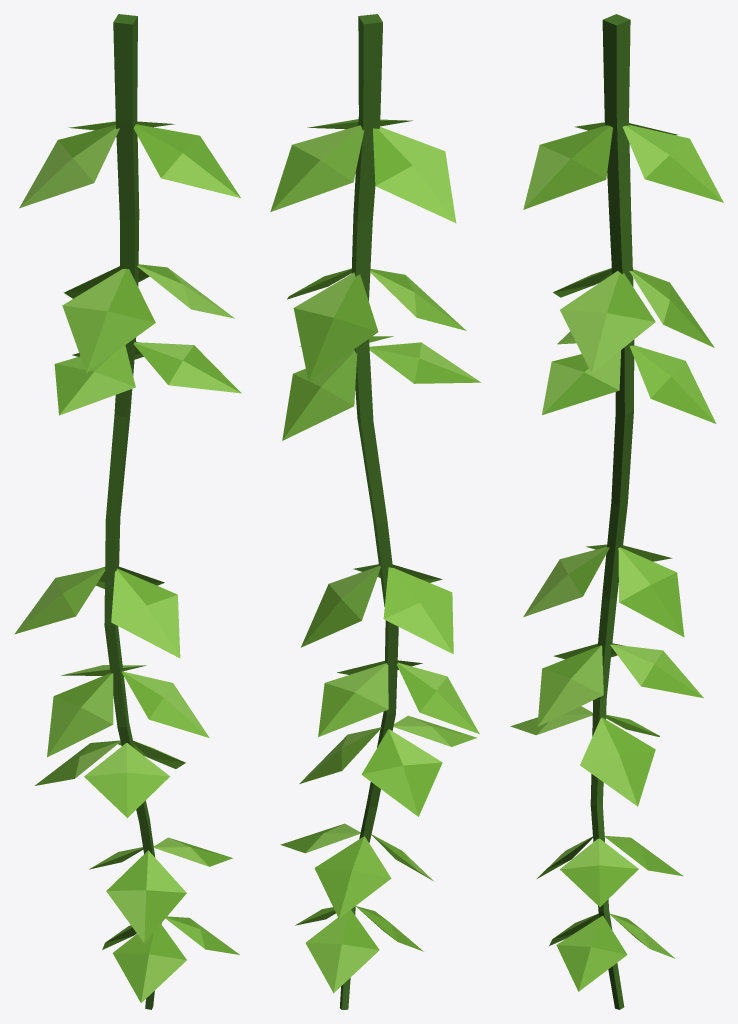
Rendered from mine-vine-2.glb.
3 renders of one model, left to right at view 1: azimuth 30°, elevation 25°; view 2: azimuth 150°, elevation 25°; view 3: azimuth 270°, elevation 25°, orthographic.
Parts seen in each view (by area): view 1: MineVine2; view 2: MineVine2; view 3: MineVine2.
Part boxes in pixels (left/top/right/bottom): MineVine2: left=14, top=14, right=241, bottom=1009; MineVine2: left=270, top=14, right=480, bottom=1009; MineVine2: left=510, top=14, right=723, bottom=1009.
Size of the model in its own units: 1.03 by 5 by 0.9932.
